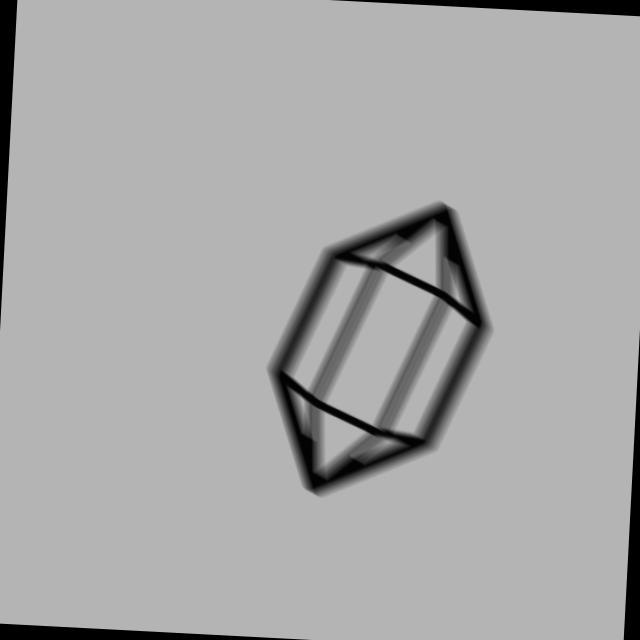crystal: (252, 185, 508, 513)
